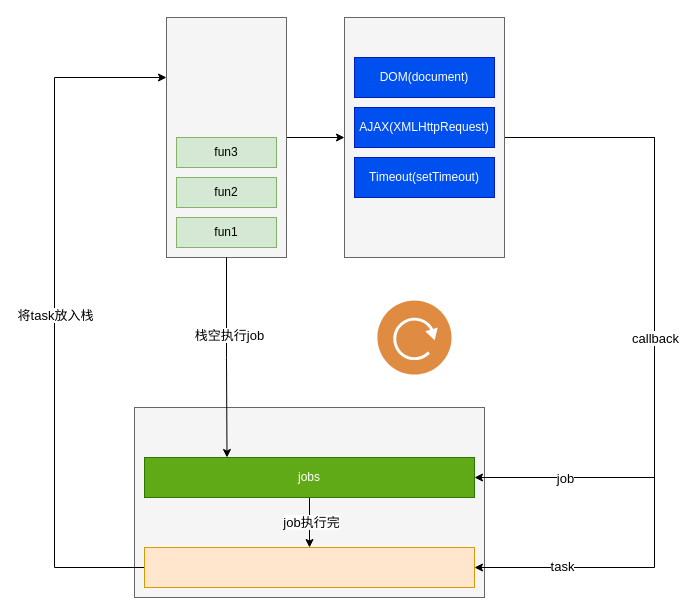
Some shapes in this 696 by 615 pixel diagram are drawn without their labels. Each missing label, with the box of its shape:
Call Stack: (166, 16, 286, 258)
Callback Queue: (134, 406, 484, 598)
tasks: (144, 546, 474, 588)
Web APIs: (344, 16, 504, 258)
